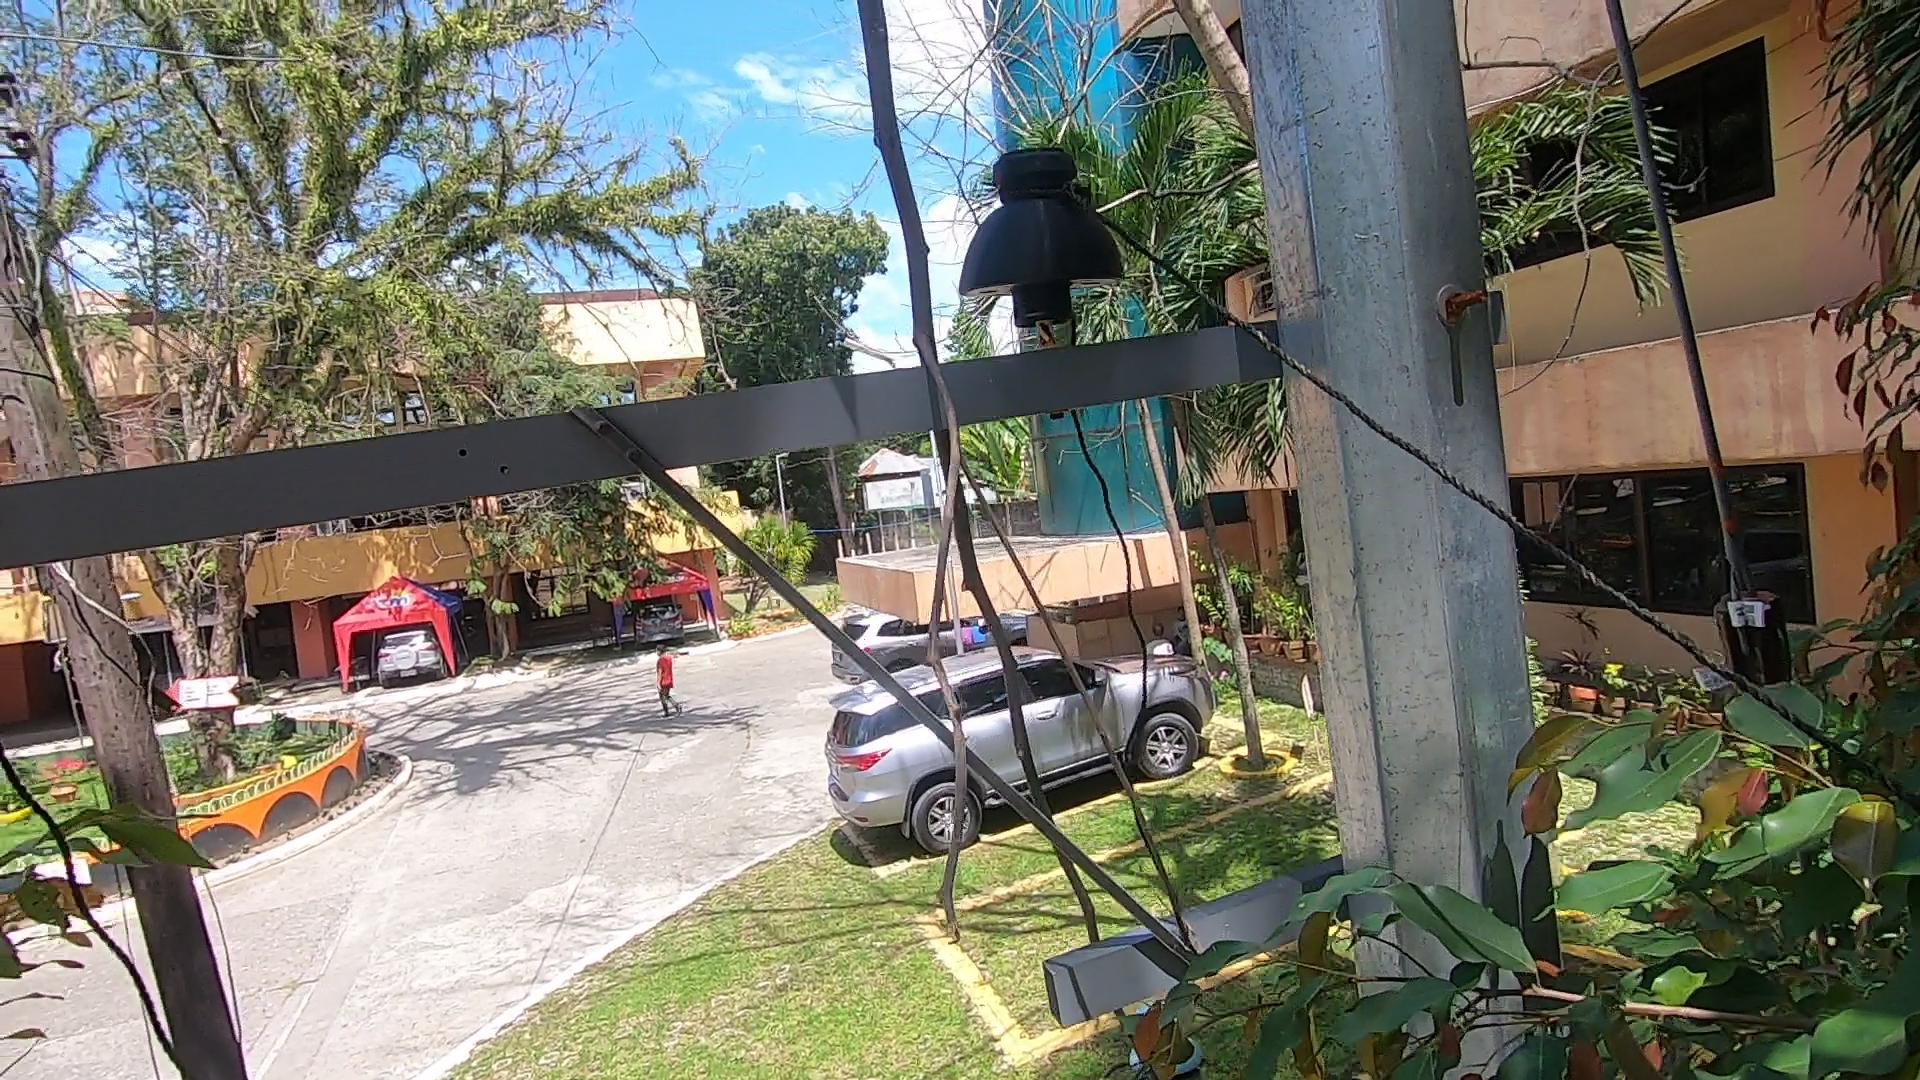branch with leaves: (1113, 934, 1327, 1080)
tree branch: (810, 7, 1116, 932)
